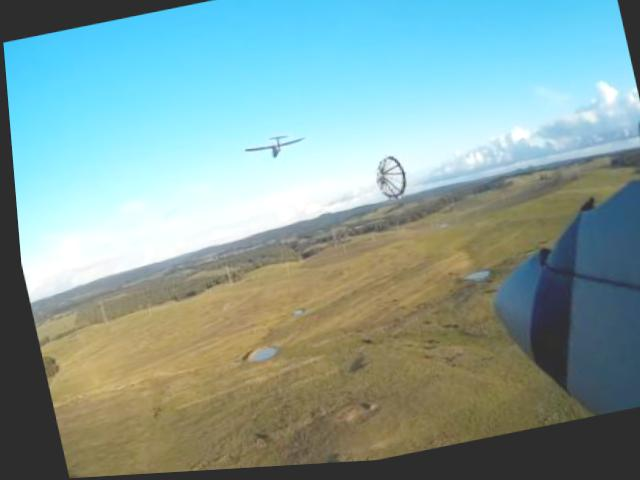uav: (234, 131, 307, 168)
